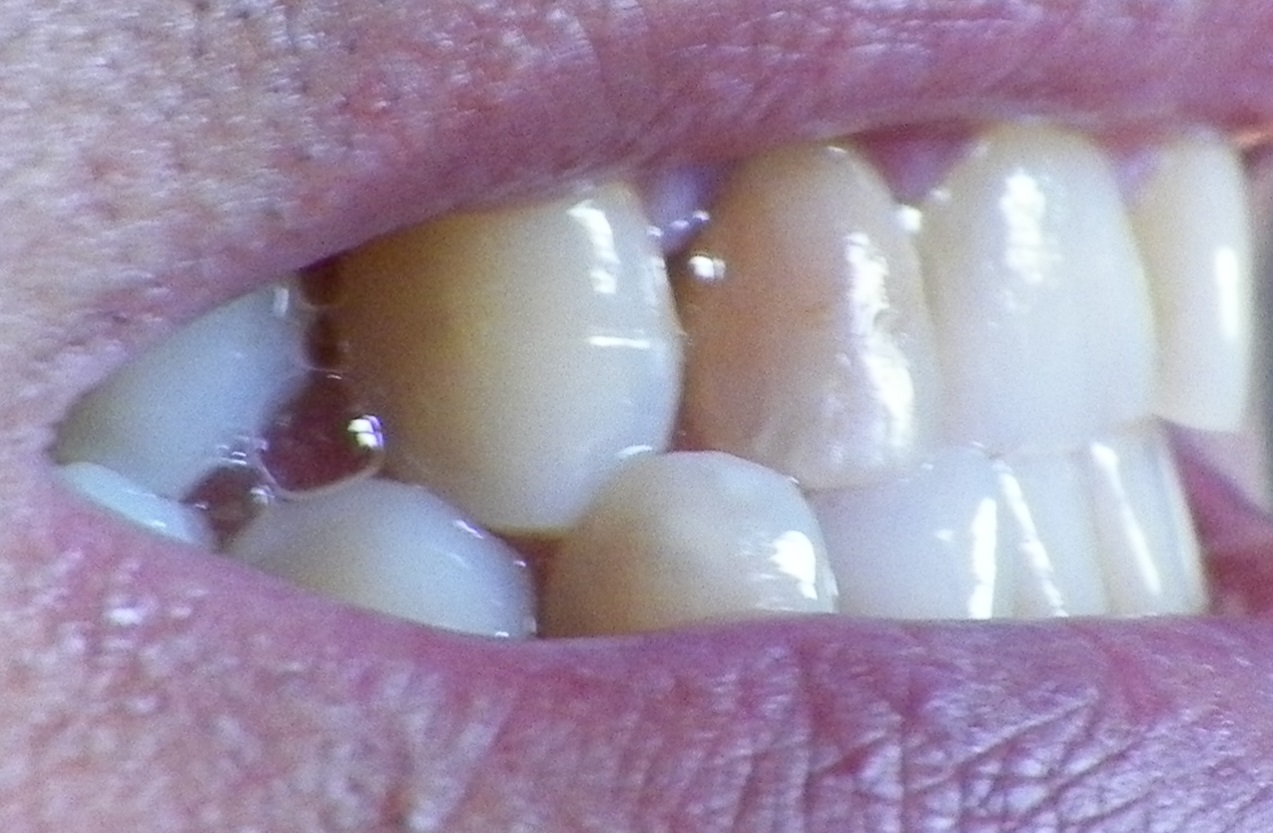boca: (82, 104, 1239, 614)
